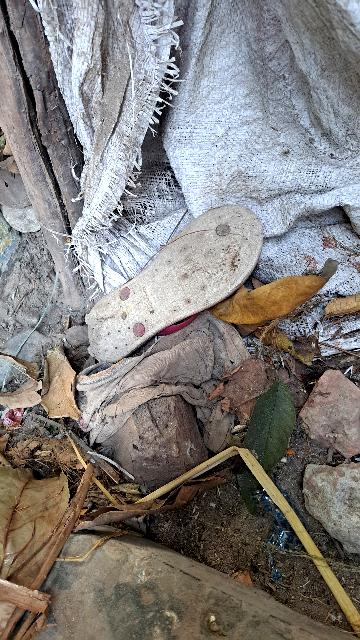sandal: (57, 180, 286, 377)
